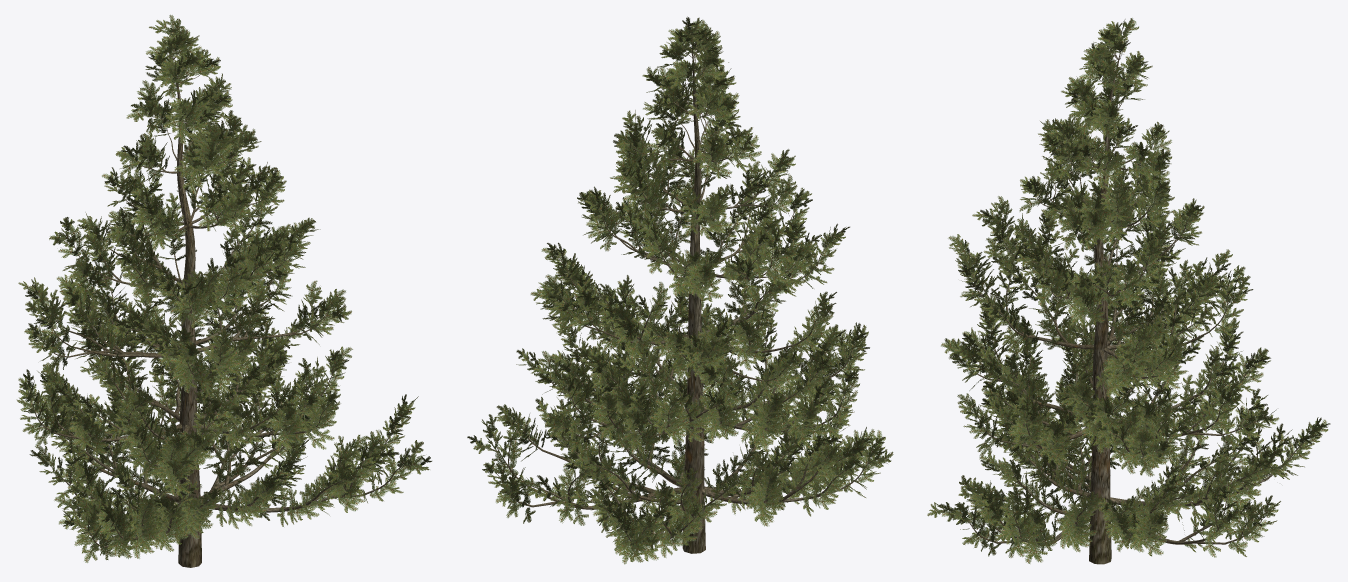
The model's file is Pine_Tree.obj.
3 renders of one model, left to right at view 1: azimuth 30°, elevation 25°; view 2: azimuth 150°, elevation 25°; view 3: azimuth 270°, elevation 25°, orthographic.
Visible parts, largest first — view 1: leaves, tree; view 2: leaves, tree; view 3: leaves, tree.
Boxes of the visible parts, x1,y1,x2,y2 form: leaves: (16,14,431,562); tree: (28,32,418,567); leaves: (467,16,893,564); tree: (485,33,880,553); leaves: (927,18,1330,563); tree: (941,32,1314,564).
Size of what is drawn, in the model's own units: 3.41 by 4.94 by 3.4.
2 materials, 2 textured.
